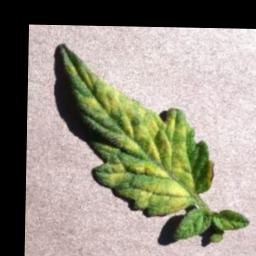Leaf_Mold: (58, 42, 217, 217)
